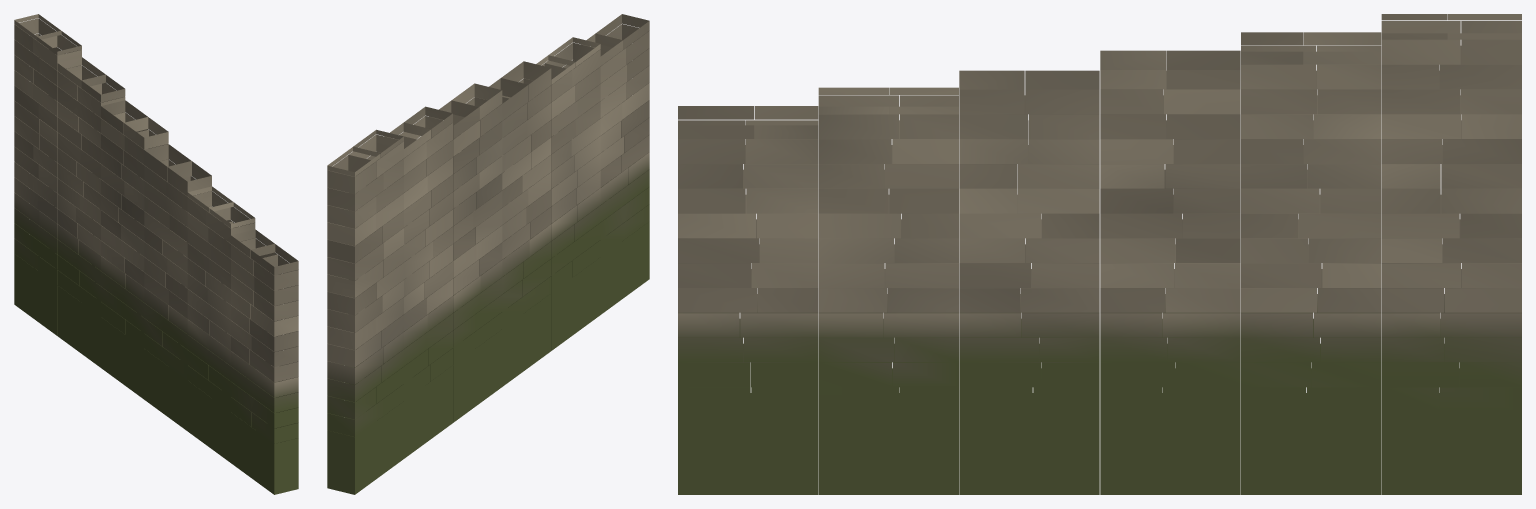
File: harbour_shed_end_mid.glb
The picture shows the model from 3 angles, left to right: view 1: azimuth 30°, elevation 25°; view 2: azimuth 150°, elevation 25°; view 3: azimuth 270°, elevation 25°; orthographic projection. The views are drawn at different scales.
Parts seen in each view (by area): view 1: harbour_shed_end_mid; view 2: harbour_shed_end_mid; view 3: harbour_shed_end_mid.
Part boxes in pixels (<box>): harbour_shed_end_mid: <box>14,14,298,494</box>; harbour_shed_end_mid: <box>327,14,649,494</box>; harbour_shed_end_mid: <box>678,14,1521,494</box>.
Bounding box in the file's own units: 3 × 33.49 × 55.47.
